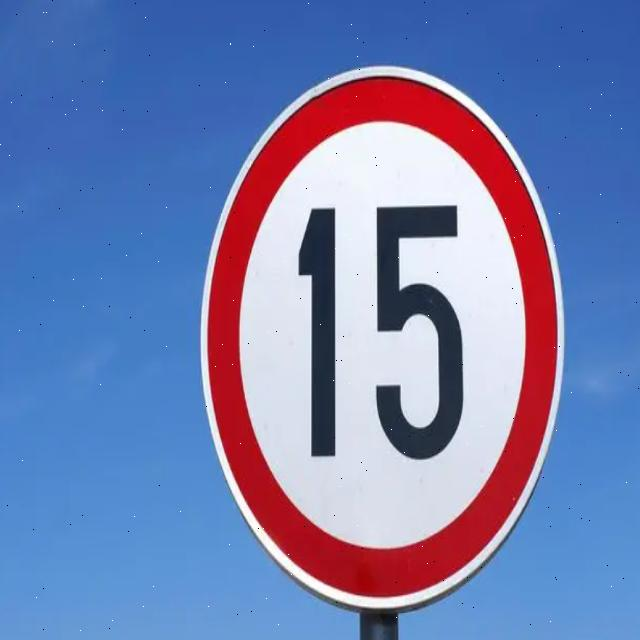speed limit 20: (198, 67, 566, 613)
